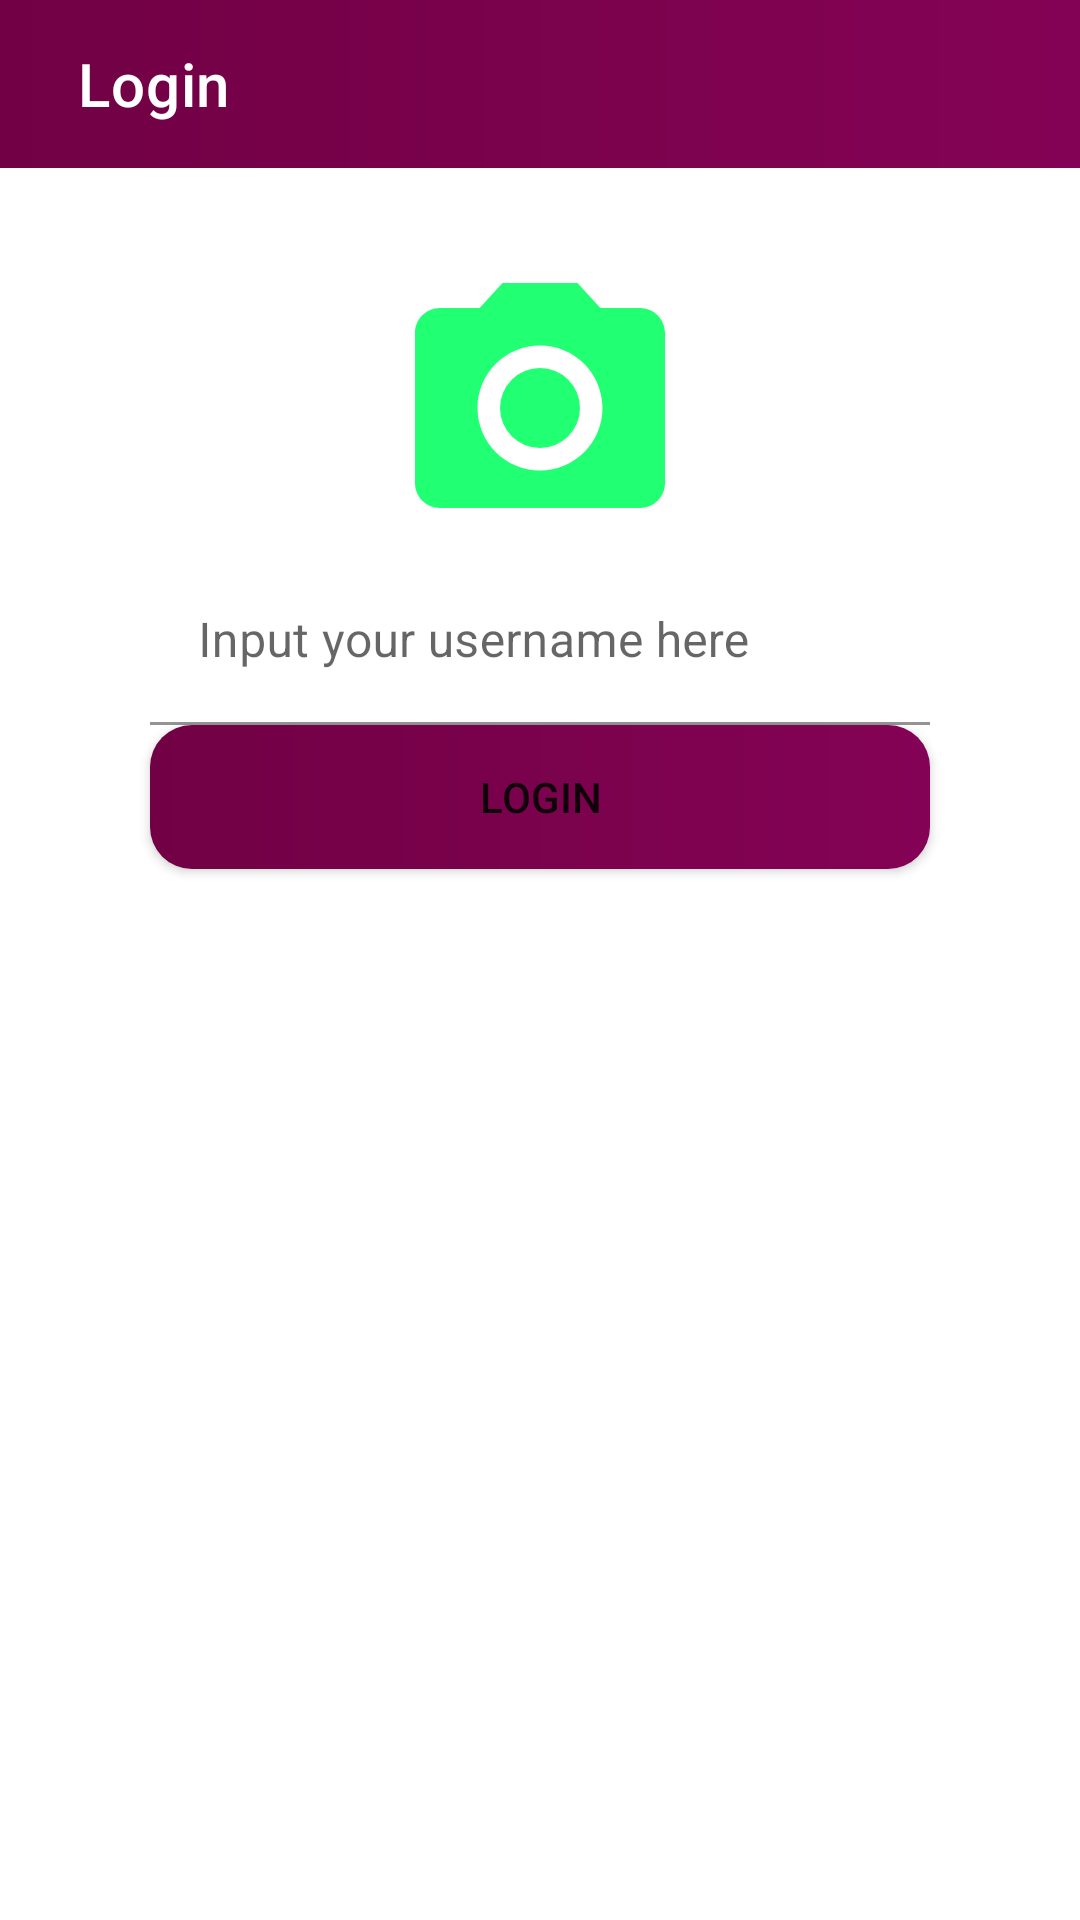

Screen size 1080*1920. Icon name, then its box in pixels as (left=x1, top=y1, right=x2, bottom=y2):
add photo: (left=415, top=283, right=665, bottom=508)
